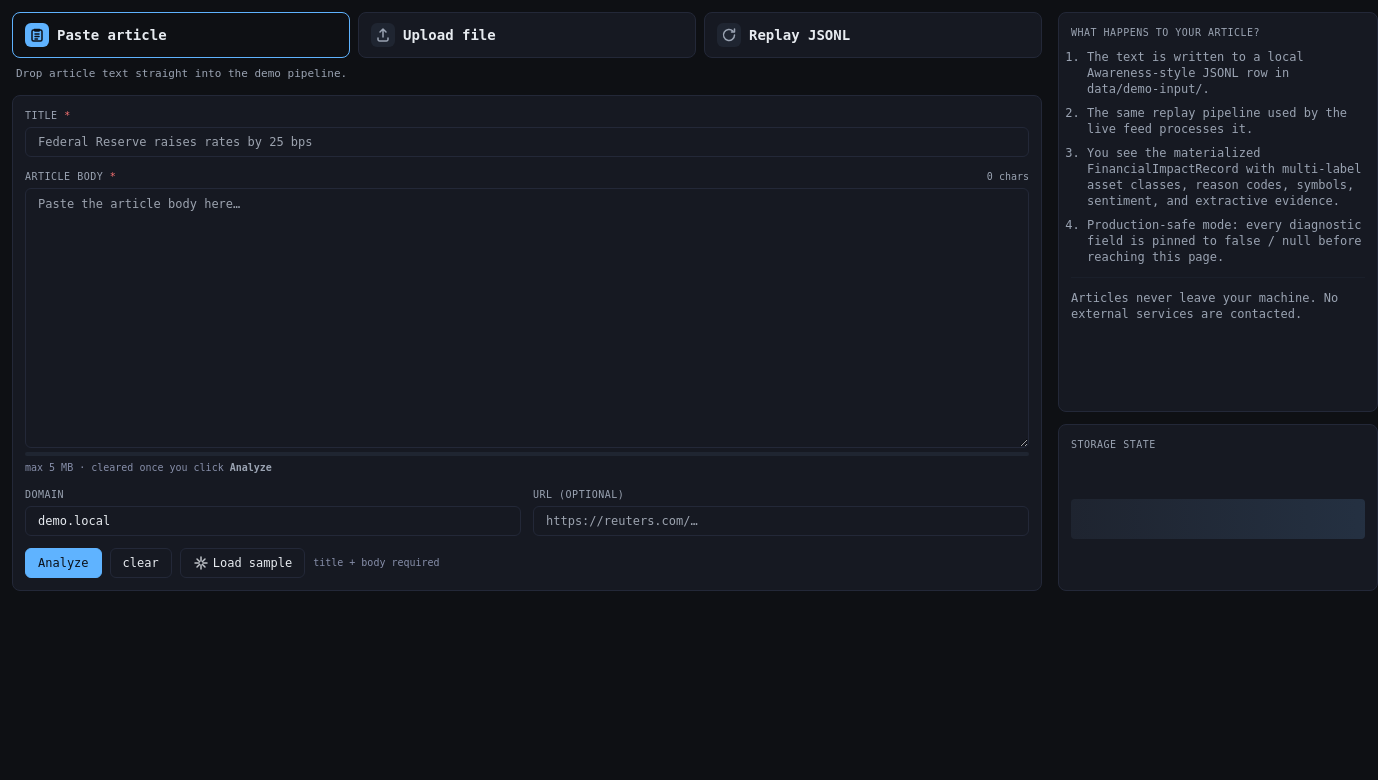
Scenario: ReplayUploadPage › Run replay posts to /replay with clamped max_records and shows the result
The image size is (1378, 780).
Click the tab with test id "tab-replay" at (800, 35), box [704,12,1042,58]
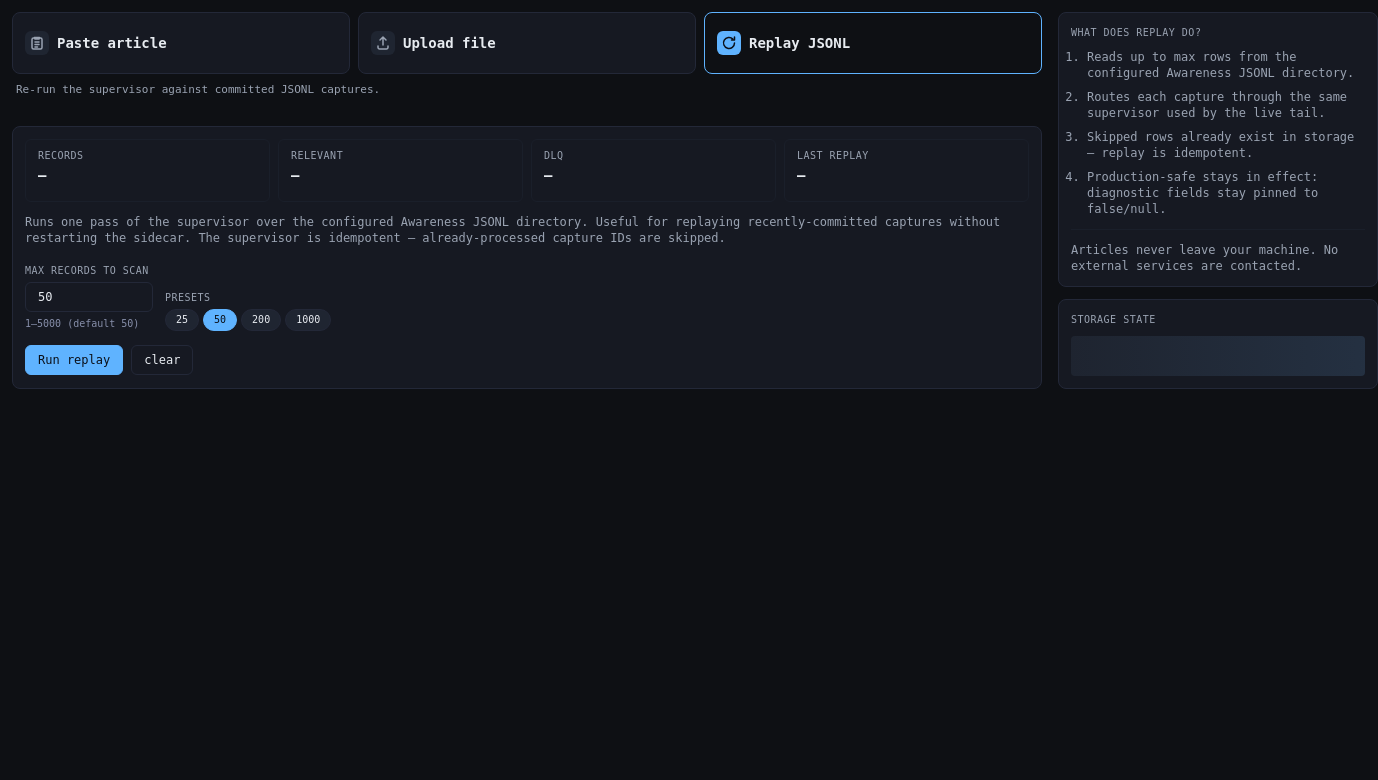
Replace the text in the number field with test id "replay-max-input" with "12" at (89, 297), box [25,282,153,312]
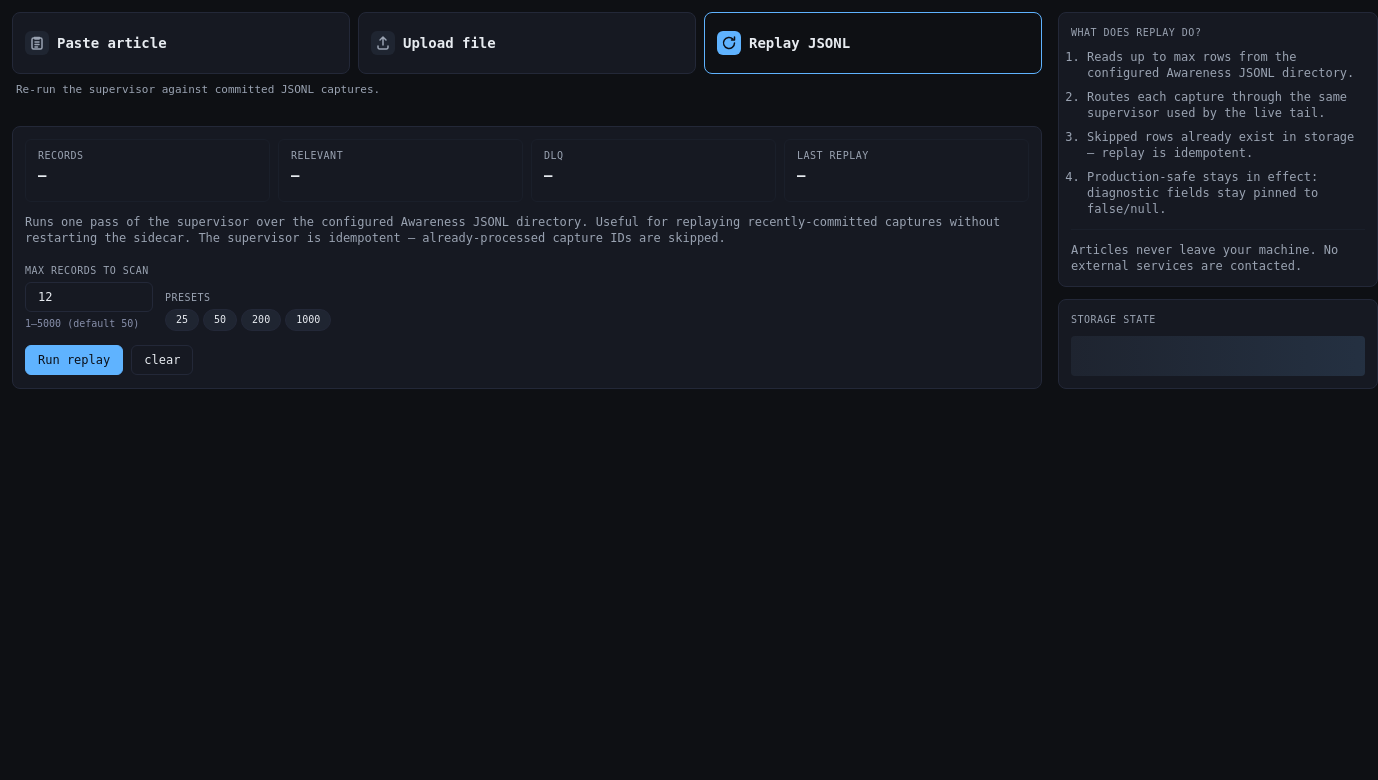
Click the button with test id "replay-run" at (74, 360), box [25,345,123,375]
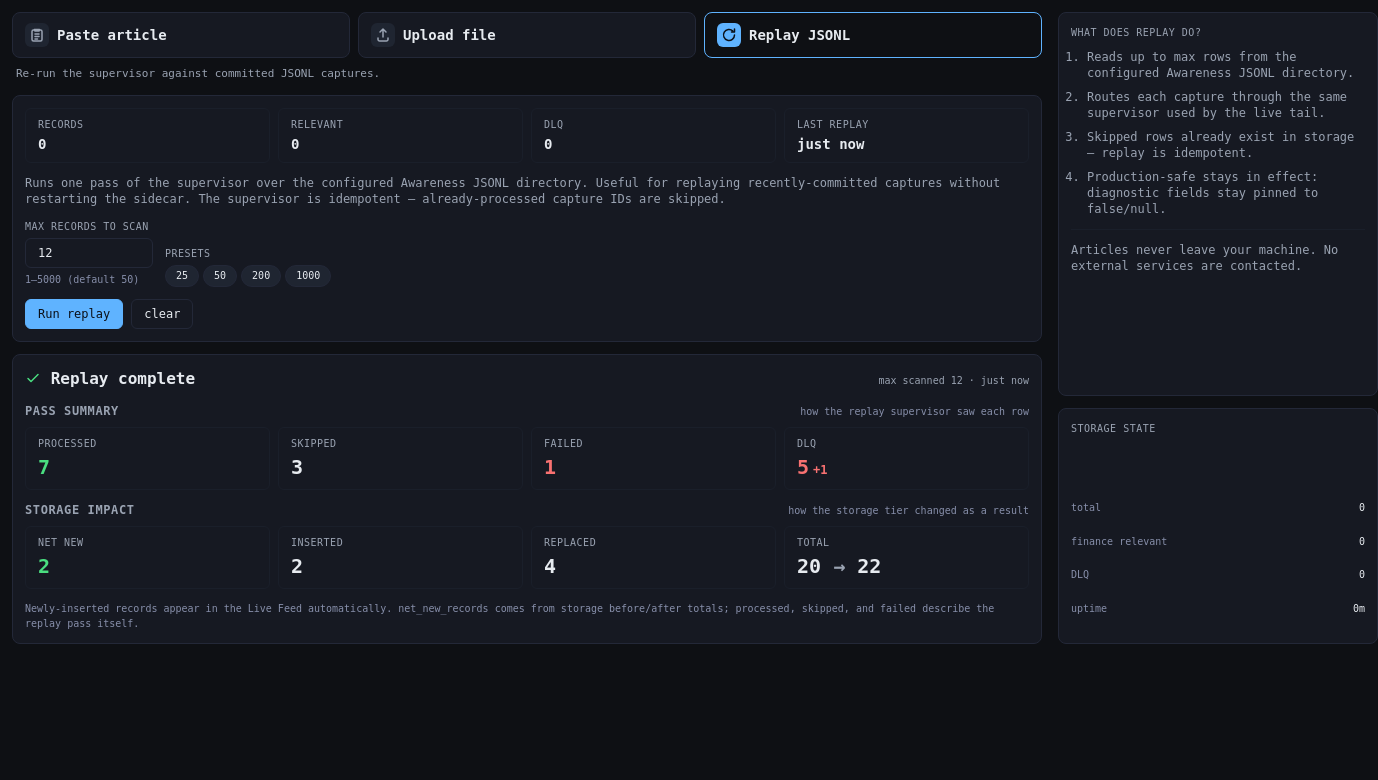
Expected: the element with test id "replay-result" is shown, [12,354,1042,644]
Expected: the text with test id "replay-processed" reads "7", [38,454,50,478]
Expected: the text with test id "replay-skipped" reads "3", [291,454,303,478]
